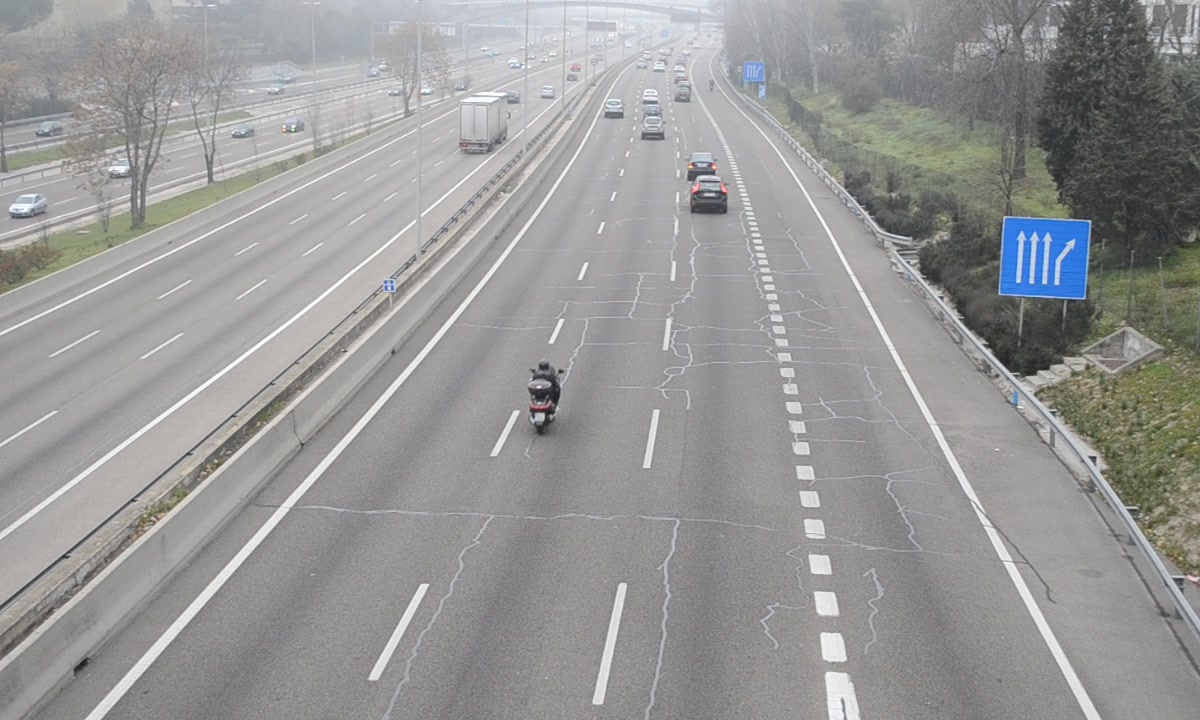car: (690, 176, 729, 214), (686, 151, 717, 178)
motorcycle: (526, 358, 564, 433)
